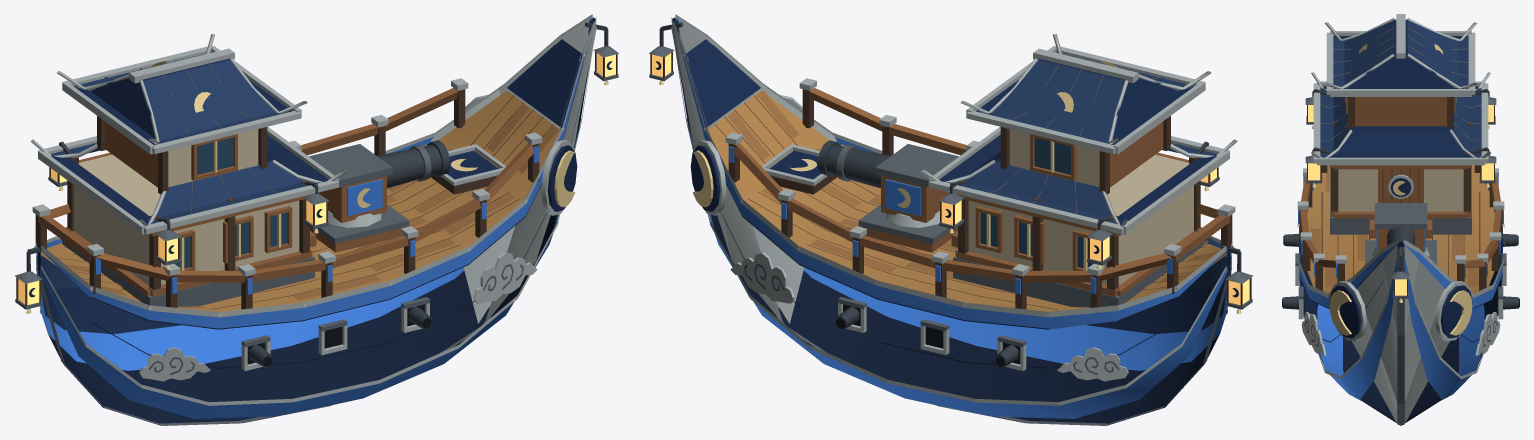
3 views of the same model, side by side, from view 1: azimuth 30°, elevation 25°; view 2: azimuth 150°, elevation 25°; view 3: azimuth 270°, elevation 25° (orthographic). The views are drawn at different scales.
Parts seen in each view (by area): view 1: hull--1-strake-0, continuous-teak-deck, hull--1-strake-1, pavilion-ivory-lower-walls, upper-pavilion-roof-roof-panel-1-2, hull-1-strake-1, hull-1-strake-4, lower-pavilion-roof-roof-panel-1-2, solid-moon-crest-cap-8, hull--1-strake-2, pavilion-lower-plinth, main-cannon-turret-top (+44 smaller); view 2: hull-1-strake-0, continuous-teak-deck, hull-1-strake-1, pavilion-ivory-lower-walls, upper-pavilion-roof-roof-panel-1-0, hull--1-strake-1, hull--1-strake-4, lower-pavilion-roof-roof-panel-1-0, solid-moon-crest-cap-8, hull-1-strake-2, pavilion-lower-plinth, main-cannon-turret-top (+44 smaller); view 3: continuous-teak-deck, pavilion-ivory-lower-walls, hull--1-strake-1, hull-1-strake-1, lower-pavilion-roof-roof-panel-1-1, upper-pavilion-walls, moon-prow-silver-spine--1-8, moon-prow-silver-spine-1-8, upper-pavilion-roof-roof-panel-1-1, upper-pavilion-roof-roof-panel-1-0, upper-pavilion-roof-roof-panel-1-2, lower-pavilion-roof-silver-eave-1 (+50 smaller).
Boxes of the visible parts, x1=… form: hull--1-strake-0: x1=41, y1=270, x2=489, y2=425; continuous-teak-deck: x1=40, y1=91, x2=560, y2=311; hull--1-strake-1: x1=38, y1=267, x2=463, y2=370; pavilion-ivory-lower-walls: x1=74, y1=154, x2=299, y2=285; upper-pavilion-roof-roof-panel-1-2: x1=143, y1=59, x2=274, y2=140; hull-1-strake-1: x1=40, y1=56, x2=590, y2=418; hull-1-strake-4: x1=40, y1=44, x2=588, y2=328; lower-pavilion-roof-roof-panel-1-2: x1=156, y1=161, x2=304, y2=216; solid-moon-crest-cap-8: x1=507, y1=39, x2=582, y2=127; hull--1-strake-2: x1=40, y1=21, x2=593, y2=334; pavilion-lower-plinth: x1=62, y1=240, x2=314, y2=306; main-cannon-turret-top: x1=309, y1=144, x2=392, y2=186; hull-1-strake-0: x1=778, y1=270, x2=1226, y2=425; continuous-teak-deck: x1=707, y1=91, x2=1227, y2=311; hull-1-strake-1: x1=804, y1=267, x2=1229, y2=370; pavilion-ivory-lower-walls: x1=968, y1=154, x2=1193, y2=285; upper-pavilion-roof-roof-panel-1-0: x1=993, y1=59, x2=1124, y2=140; hull--1-strake-1: x1=677, y1=58, x2=1227, y2=418; hull--1-strake-4: x1=679, y1=44, x2=1227, y2=329; lower-pavilion-roof-roof-panel-1-0: x1=963, y1=161, x2=1111, y2=216; solid-moon-crest-cap-8: x1=685, y1=39, x2=760, y2=127; hull-1-strake-2: x1=674, y1=21, x2=1227, y2=334; pavilion-lower-plinth: x1=953, y1=240, x2=1205, y2=307; main-cannon-turret-top: x1=875, y1=144, x2=958, y2=186; continuous-teak-deck: x1=1307, y1=165, x2=1494, y2=293; pavilion-ivory-lower-walls: x1=1338, y1=169, x2=1463, y2=211; hull--1-strake-1: x1=1402, y1=248, x2=1484, y2=399; hull-1-strake-1: x1=1317, y1=248, x2=1399, y2=399; lower-pavilion-roof-roof-panel-1-1: x1=1335, y1=130, x2=1466, y2=154; upper-pavilion-walls: x1=1355, y1=97, x2=1446, y2=126; moon-prow-silver-spine--1-8: x1=1404, y1=260, x2=1444, y2=401; moon-prow-silver-spine-1-8: x1=1357, y1=260, x2=1397, y2=401; upper-pavilion-roof-roof-panel-1-1: x1=1347, y1=55, x2=1454, y2=87; upper-pavilion-roof-roof-panel-1-0: x1=1407, y1=20, x2=1457, y2=84; upper-pavilion-roof-roof-panel-1-2: x1=1344, y1=20, x2=1394, y2=84; lower-pavilion-roof-silver-eave-1: x1=1317, y1=157, x2=1484, y2=165.
Size of the model in its own units: 2.04 by 1.24 by 0.8748.
